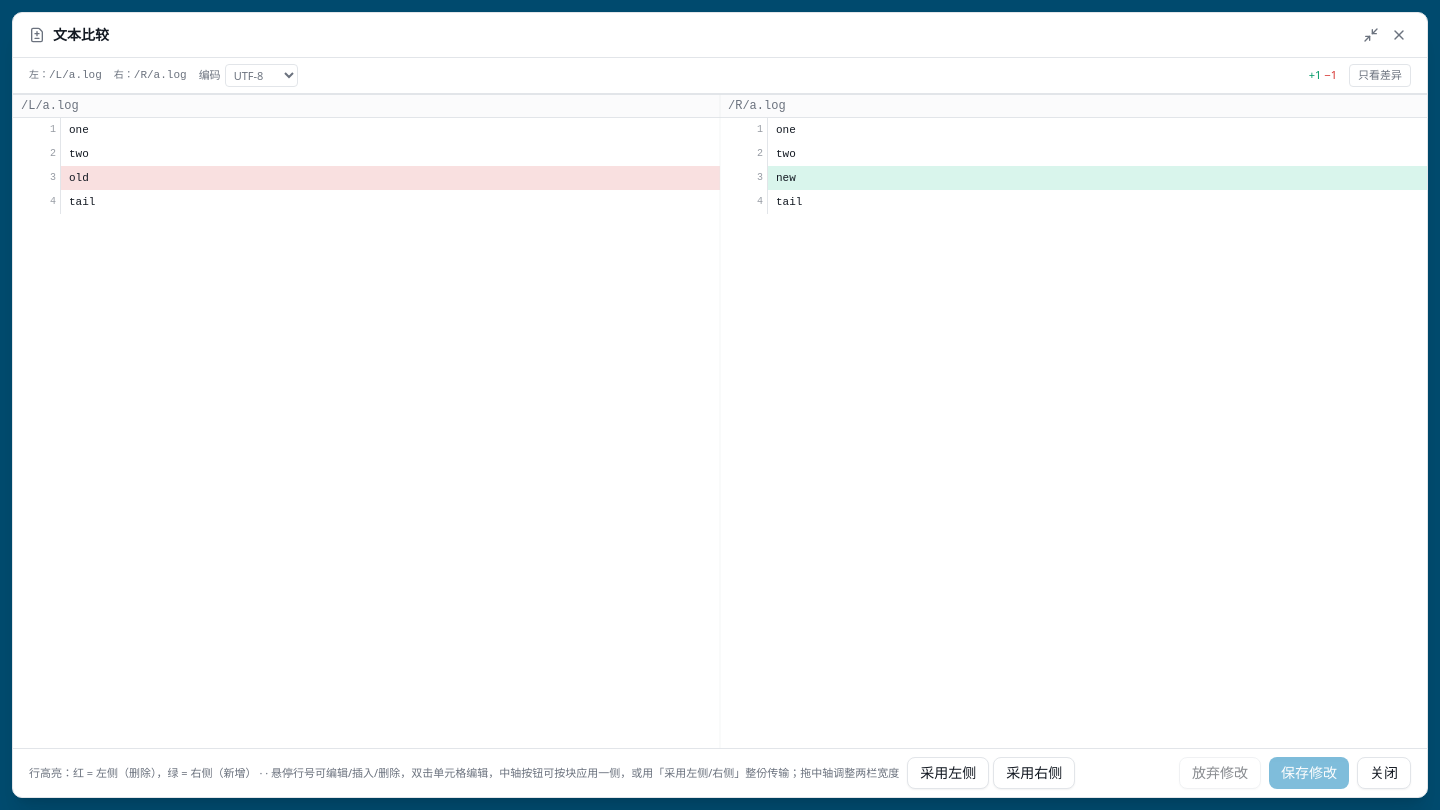
Scenario: TextDiffDialog（v0.19 文本比较） › v0.34 双击单元格编辑右侧行：提交后 pair 改写、保存按钮激活
Expected: the button "保存修改" is disabled, [1269,757,1349,789]
Step 1. Double-click the text "new" → (786, 178), box [776,172,796,184]
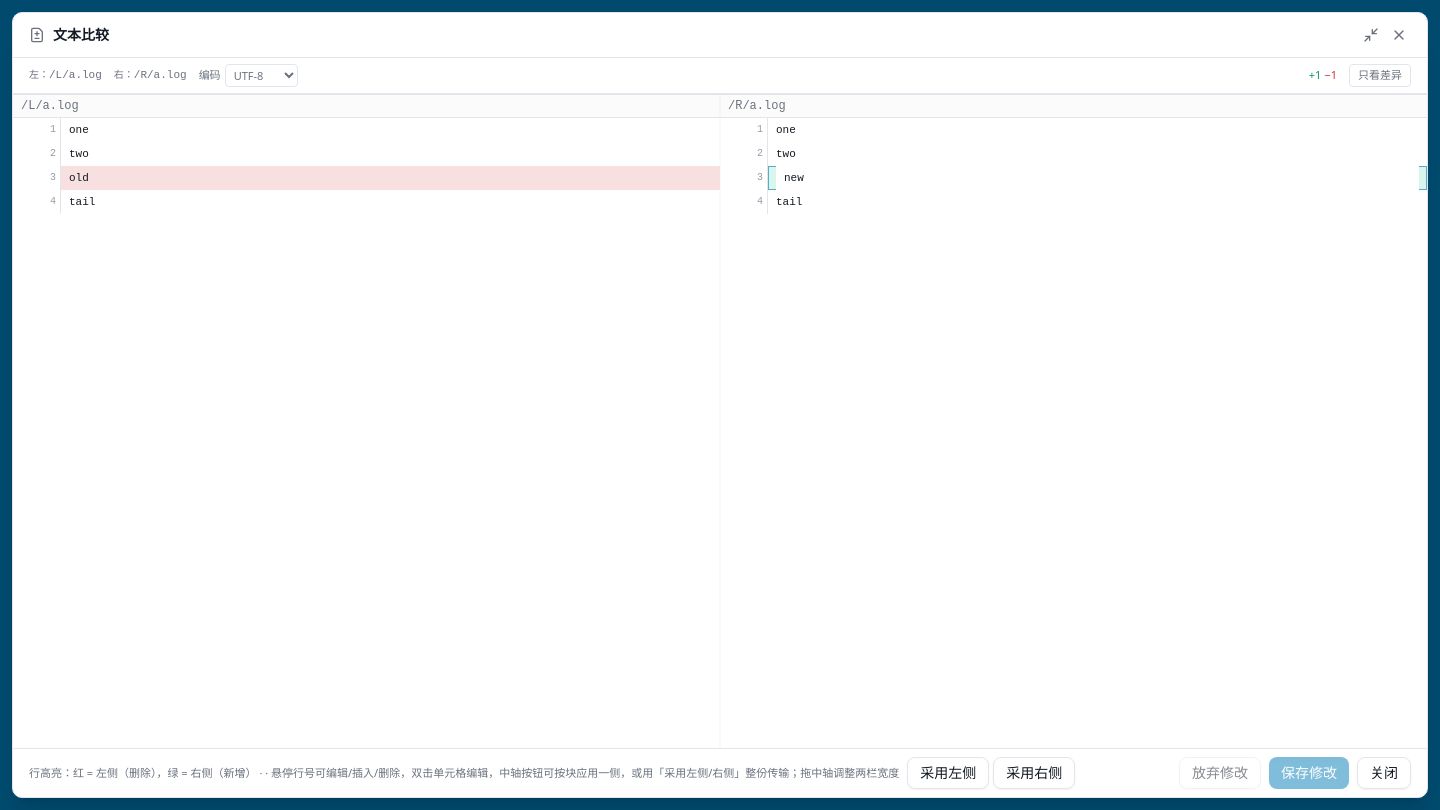
Step 2. Replace the text in the field showing "new" with "changed" → (1098, 178), box [776,166,1419,190]
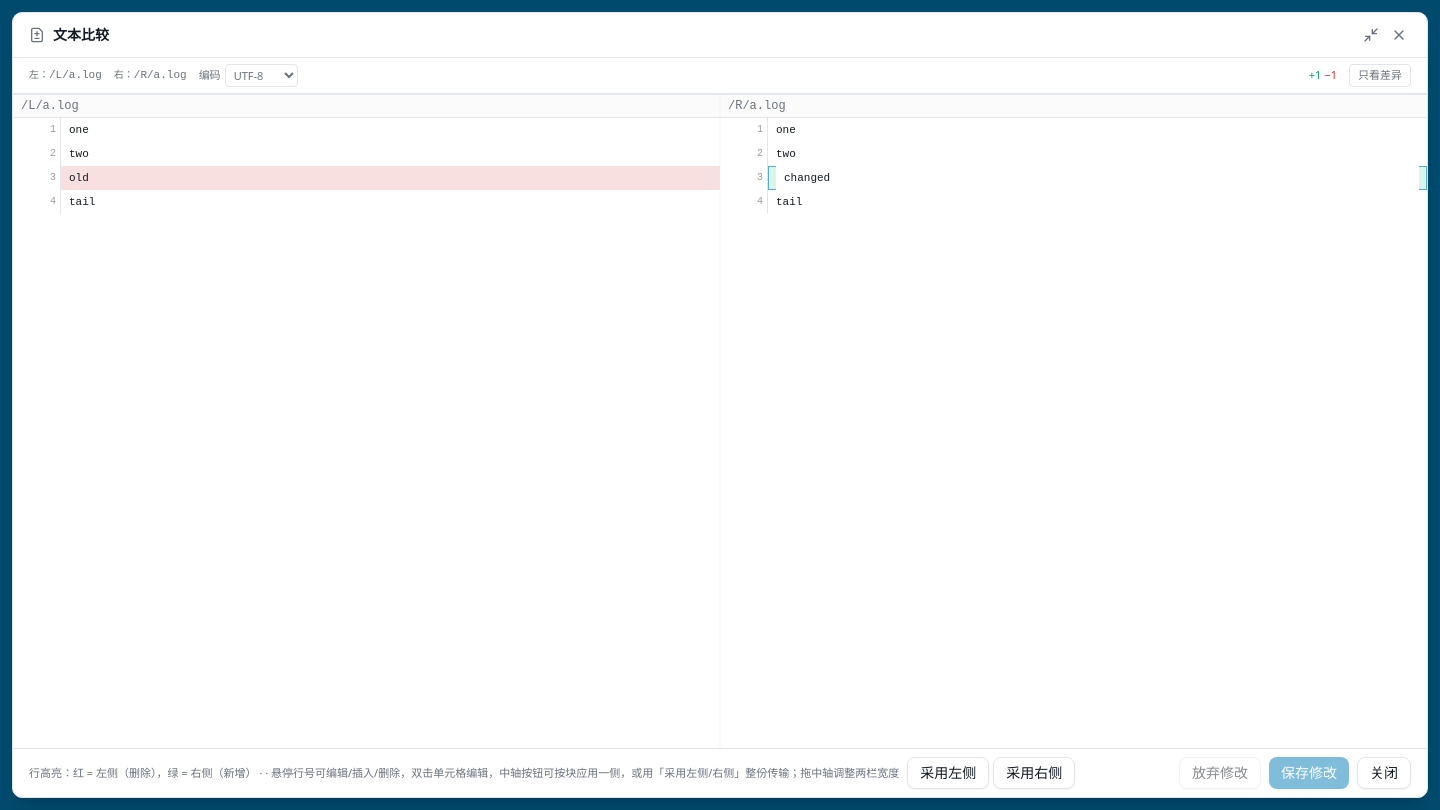
Step 3. Press Enter in the field showing "new", box [776,166,1419,190]
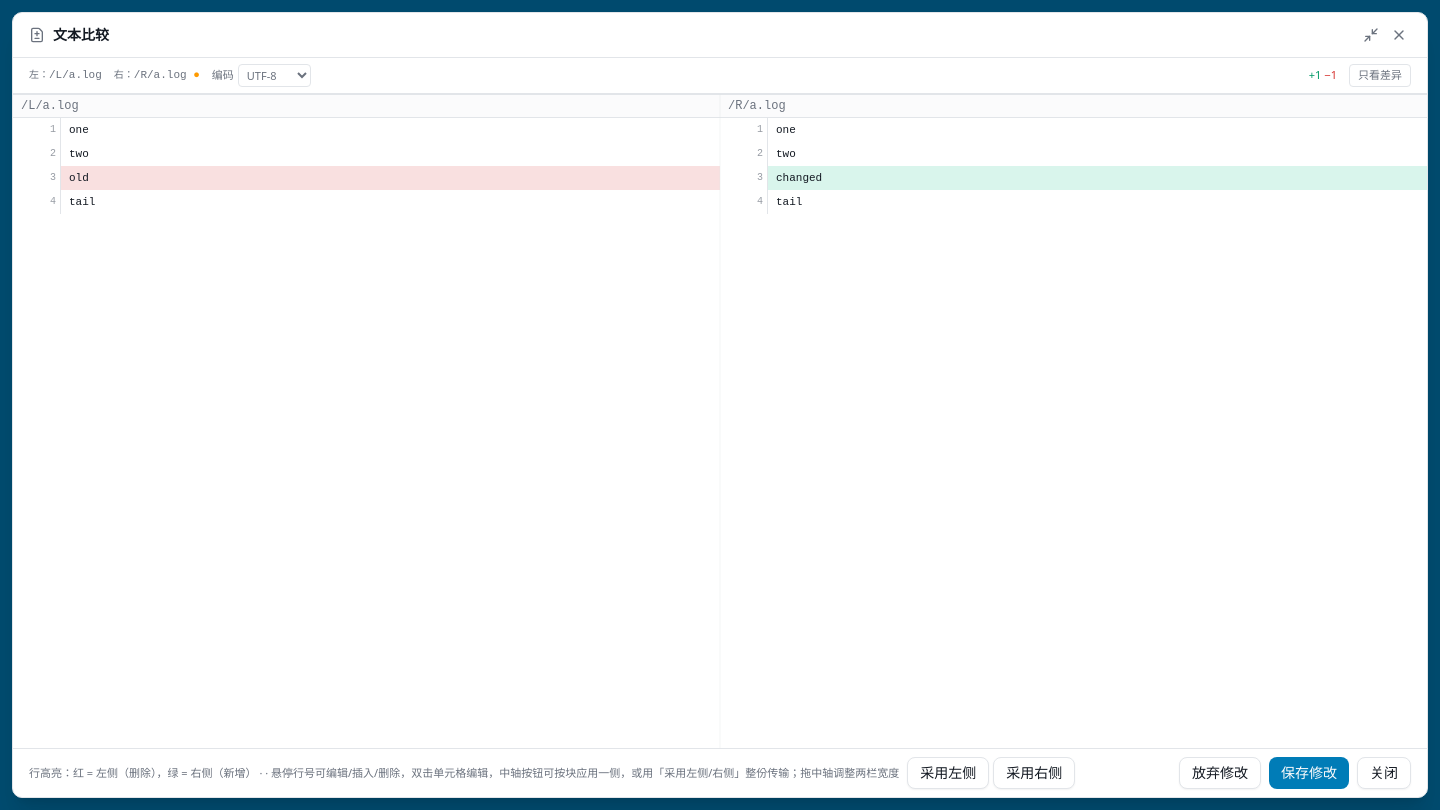
Now the text "changed" is shown, box [776,172,822,184]
Now the button "保存修改" is enabled, box [1269,757,1349,789]
Now the text titled "右侧有未保存修改" is shown, box [187,69,200,81]
